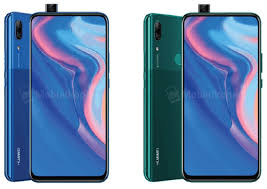huawei: (141, 9, 263, 182), (2, 8, 110, 184), (28, 10, 110, 185), (180, 10, 262, 185)
